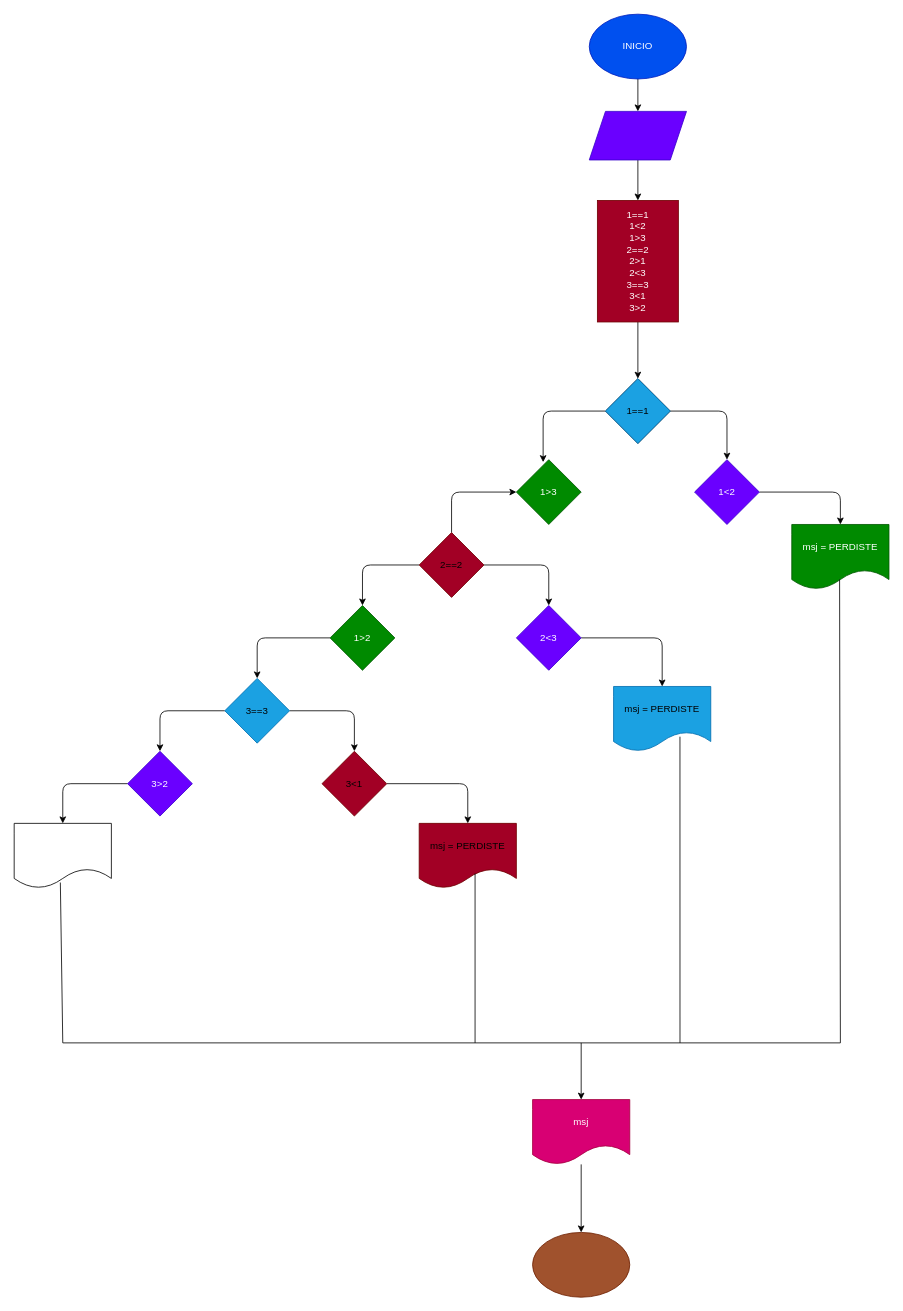
This 903x1311 diagram has some shape labels left out. Here are the shapes that lost their labels. From the top down, the centre of each, then its label:
(x=637, y=135): bot, user
(x=62, y=855): msj = GANASTE
(x=581, y=1264): FIN
